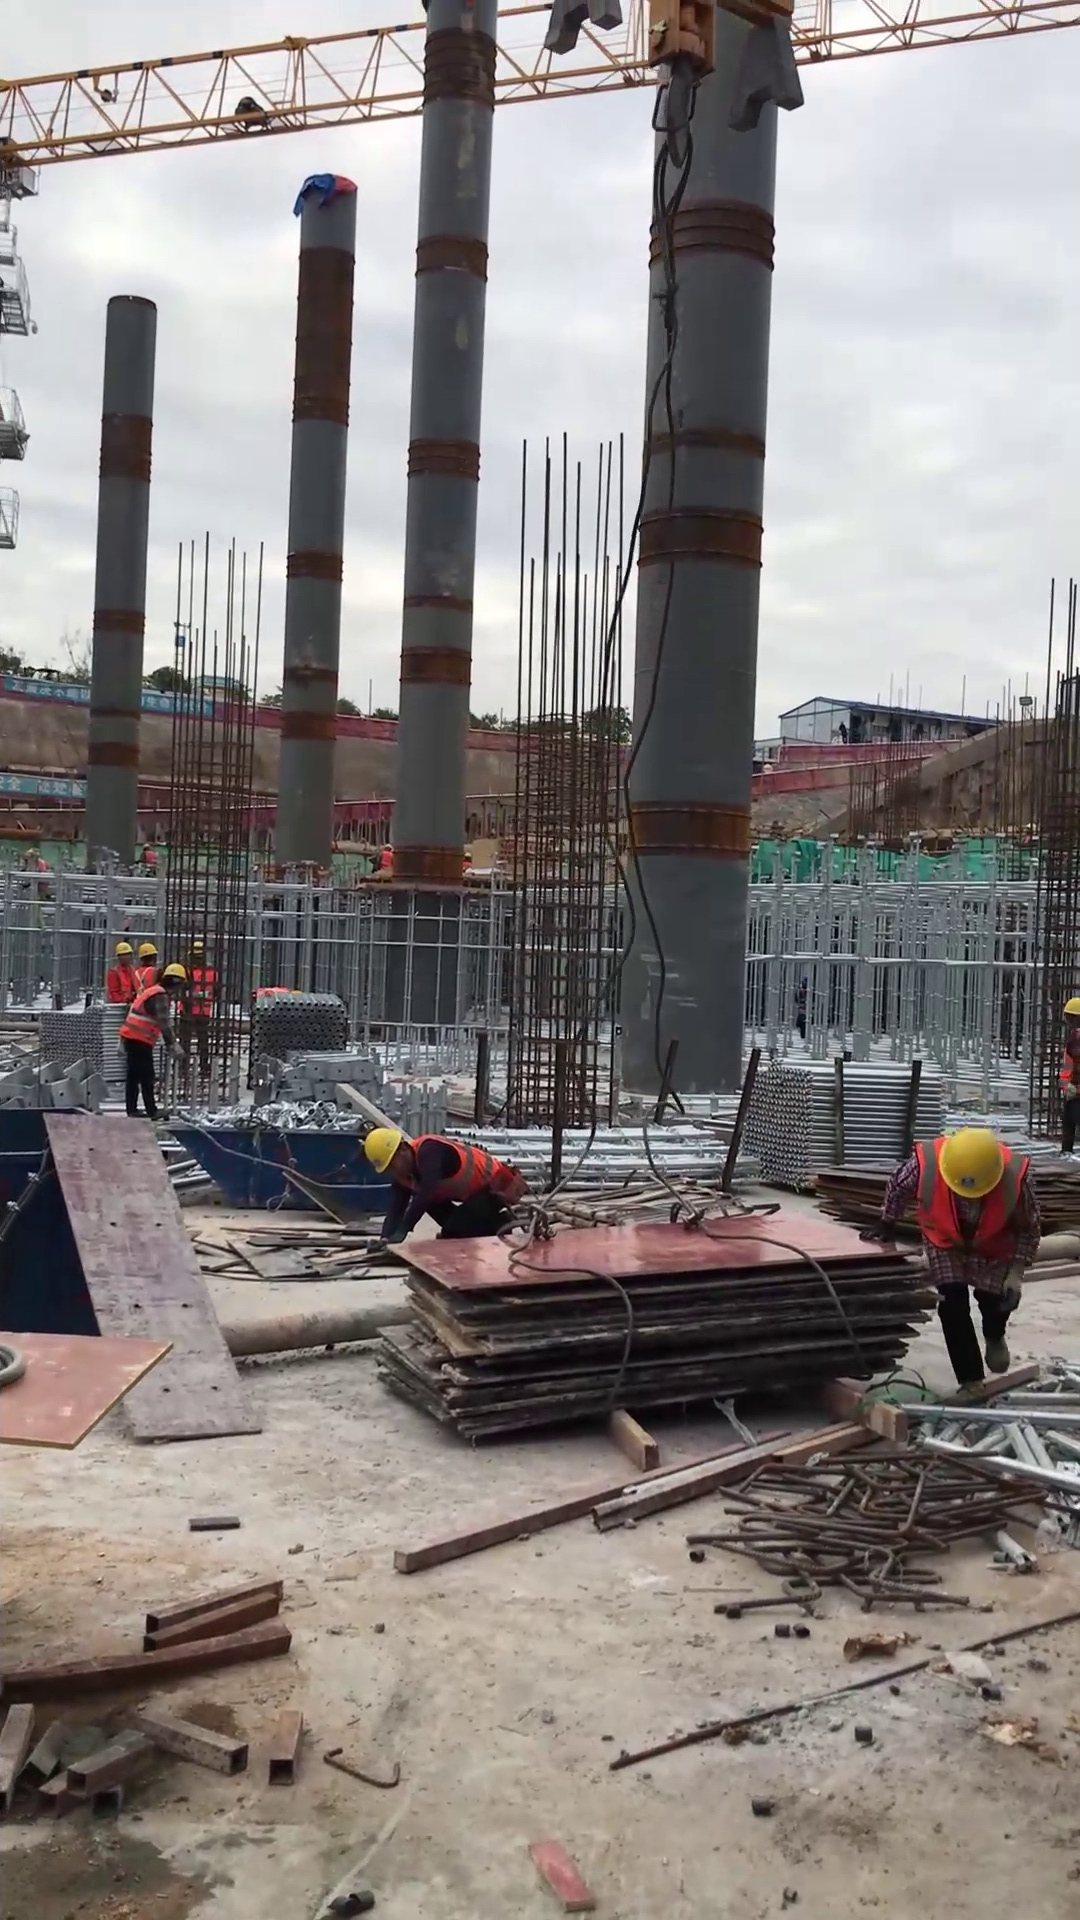board: (373, 1205, 936, 1438), (813, 1156, 917, 1227)
helmet: (936, 1125, 1005, 1198), (363, 1124, 403, 1173), (161, 961, 187, 985), (136, 941, 159, 961), (1061, 994, 1080, 1019), (113, 941, 133, 957), (187, 939, 206, 955), (463, 850, 475, 863), (142, 841, 151, 850), (383, 842, 392, 851)
hook: (539, 1, 807, 170)
hopper: (159, 1119, 410, 1211)
person: (858, 1124, 1045, 1392), (362, 1125, 521, 1247), (115, 961, 193, 1120), (177, 940, 222, 1084), (1055, 995, 1080, 1159), (104, 940, 142, 1002), (132, 939, 162, 993), (367, 841, 394, 875), (135, 840, 159, 868)
scaffold: (740, 1055, 950, 1190), (475, 1121, 758, 1191), (37, 996, 128, 1091), (246, 990, 346, 1062)
slogan: (4, 676, 210, 722), (1, 770, 87, 805)
vest: (917, 1133, 1034, 1252), (408, 1130, 525, 1211), (118, 981, 170, 1048), (1058, 1027, 1080, 1099), (187, 968, 217, 1017), (131, 962, 159, 998), (108, 962, 136, 996)
